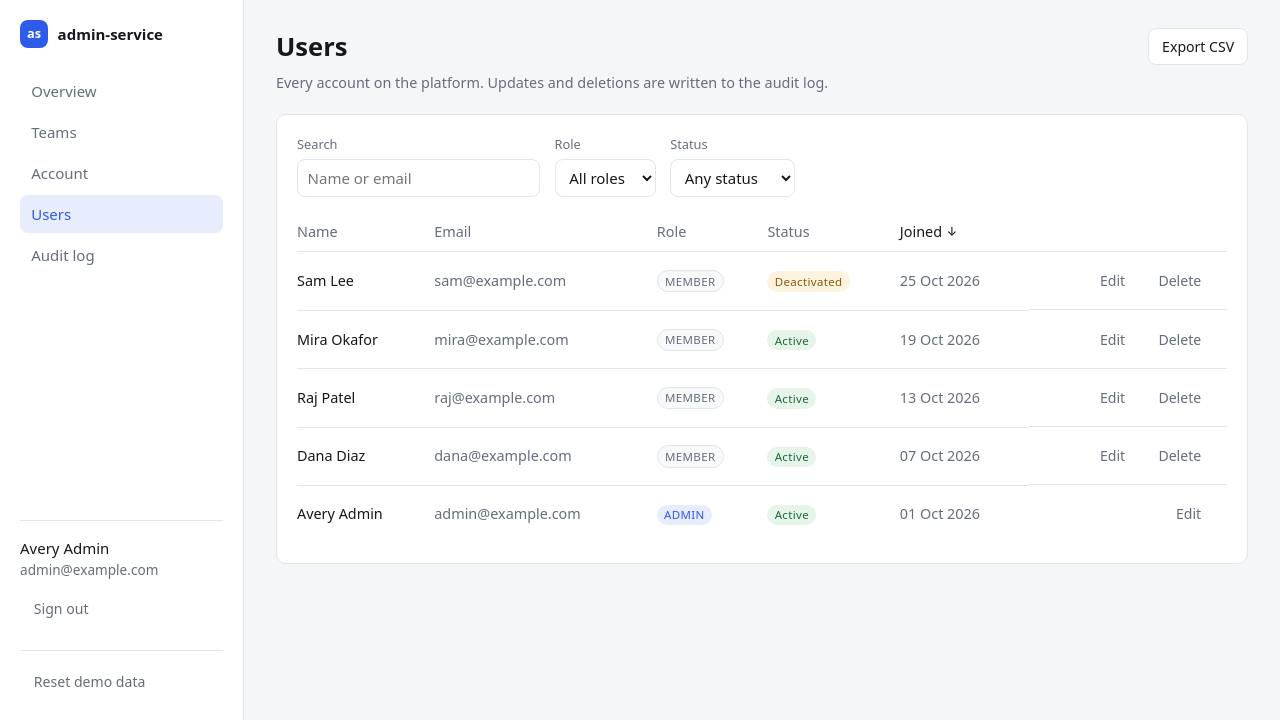
the users screen › closes without writing anything when nothing was edited
The image size is (1280, 720).
Click the button "Edit" in the row of "Dana Diaz": (1113,456) 1086,437 -> 1139,474
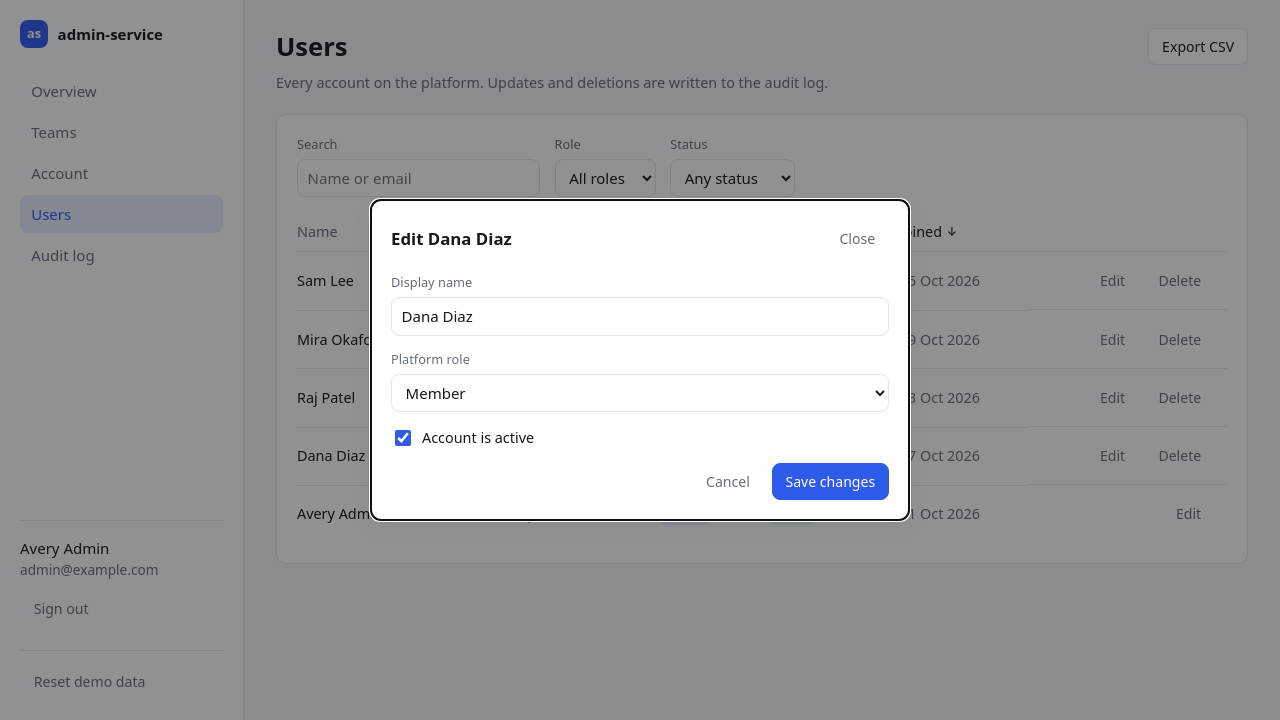
Click the button "Save changes": (830,481) 772,463 -> 889,500
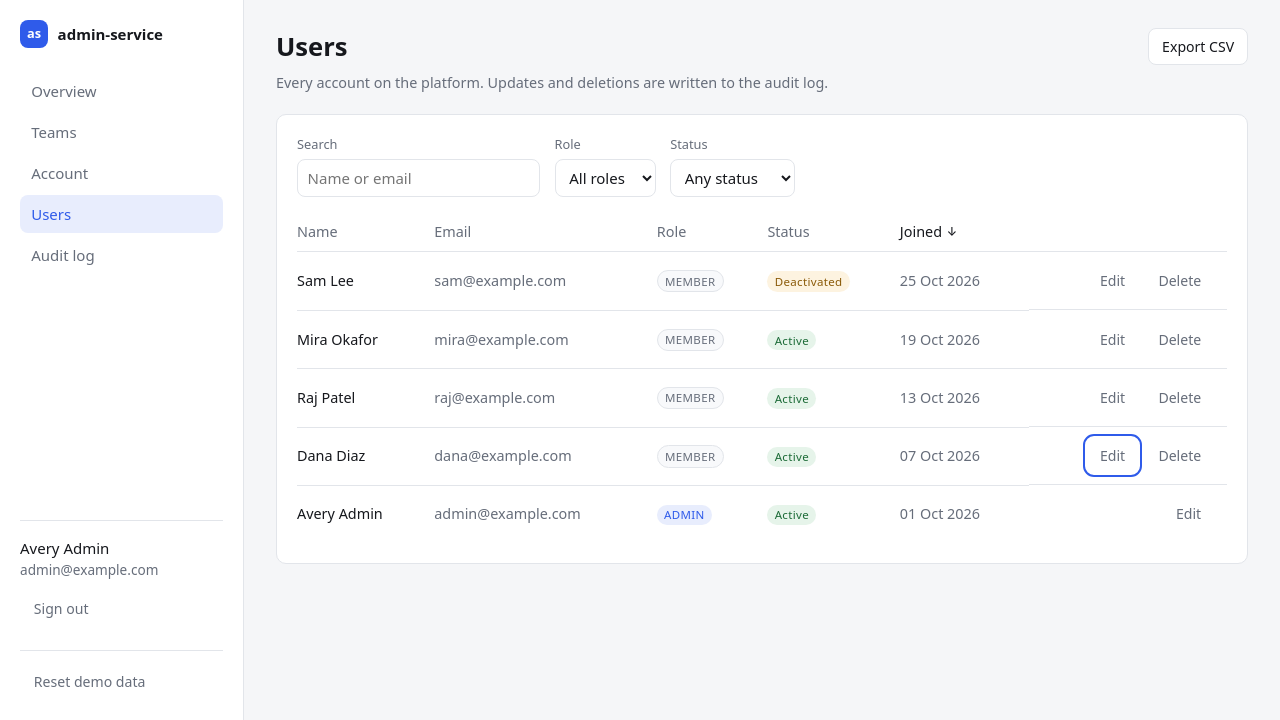
Result: the dialog is gone
